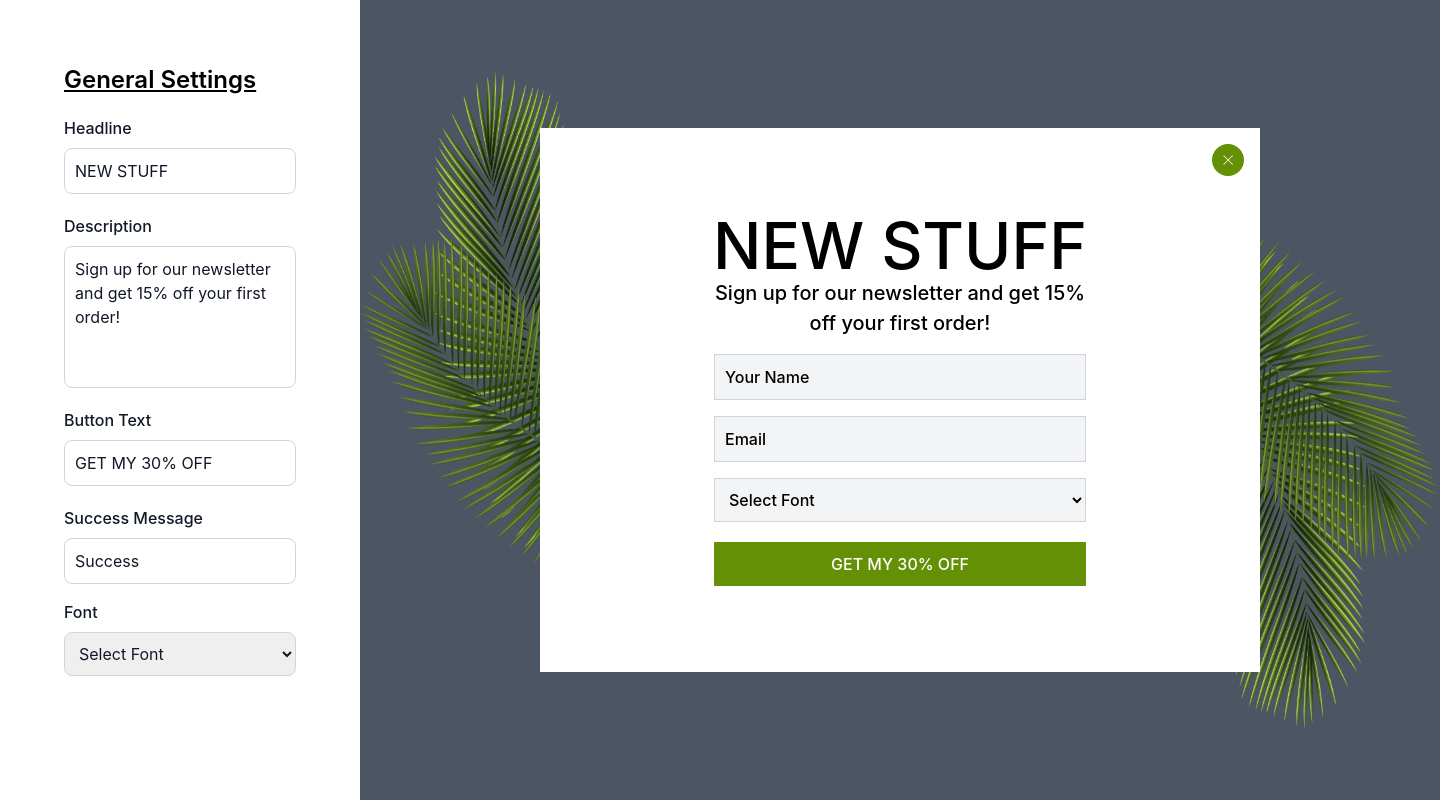
Test: input-tests › buttonText
Replace the text in the field with id "buttonText" with "Button Message" at (180, 463), box [64,440,296,486]
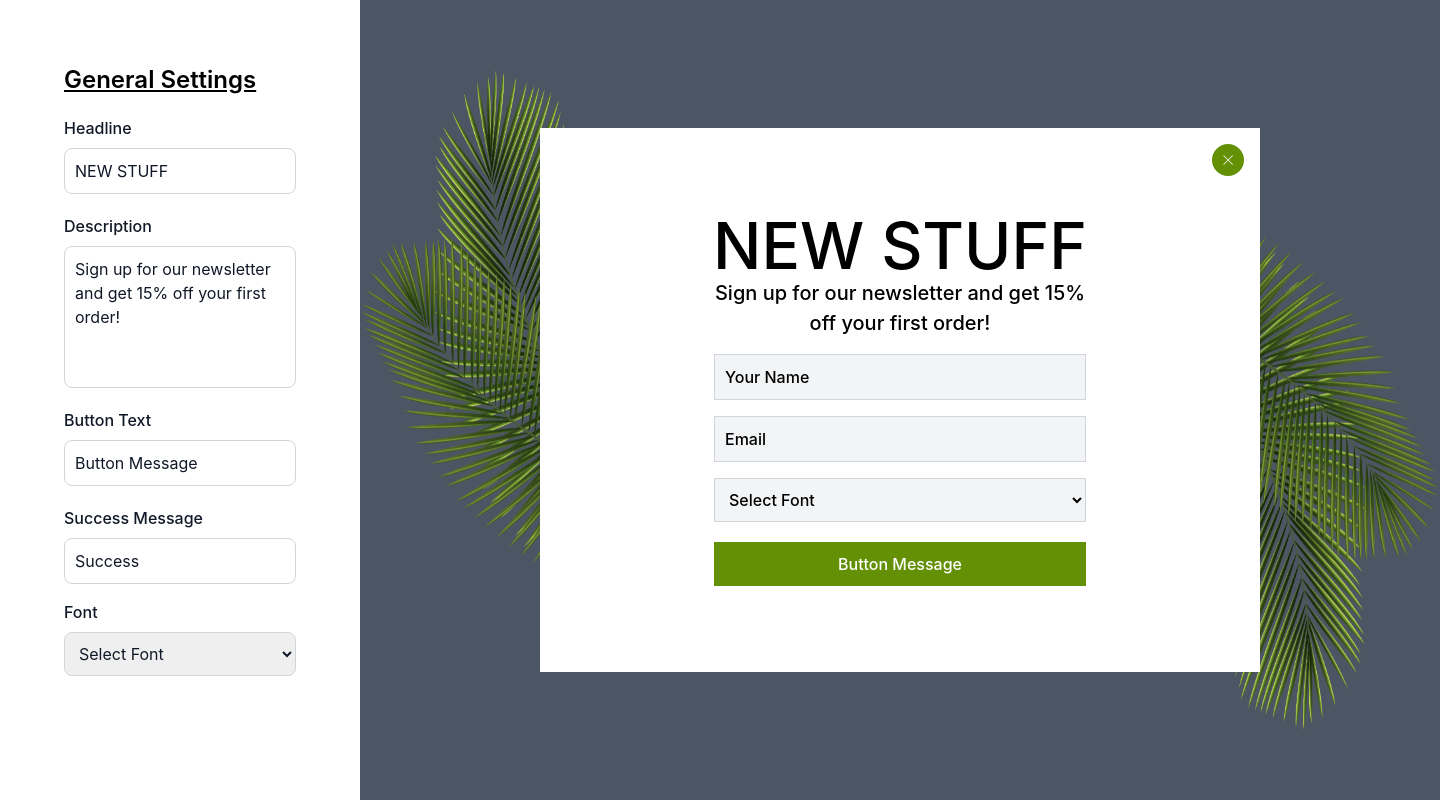
Now the submit button reads "Button Message", box [714,542,1086,586]
